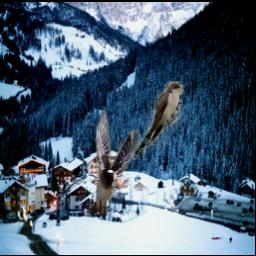Cuckoo: (133, 82, 184, 160)
Swallow: (87, 110, 138, 216)
